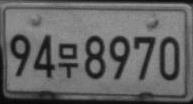0: (158, 35, 180, 80)
4: (32, 34, 55, 78)
7: (133, 35, 156, 80)
8: (83, 34, 106, 79)
9: (108, 34, 131, 79), (9, 33, 31, 76)
무: (58, 42, 78, 78)
